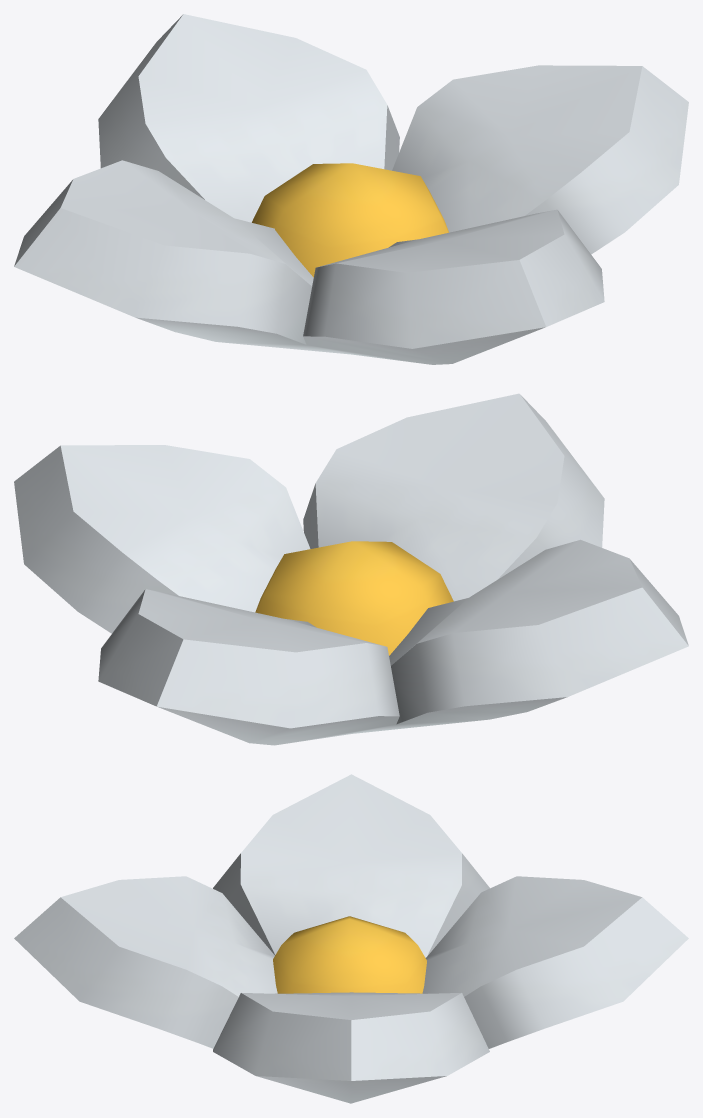
File: prop_park_flower_a.glb
3 renders of one model, top to bottom at view 1: azimuth 30°, elevation 25°; view 2: azimuth 150°, elevation 25°; view 3: azimuth 270°, elevation 25°, orthographic. The views are drawn at different scales.
Parts seen in each view (by area): view 1: flower_A; view 2: flower_A; view 3: flower_A.
Part boxes in pixels (x1,y1,x2,y2): flower_A: (14,14,688,364); flower_A: (14,393,688,745); flower_A: (14,774,688,1103).
Bounding box in the file's own units: 0.4491 × 0.1383 × 0.4491.
1 material, 1 textured.
